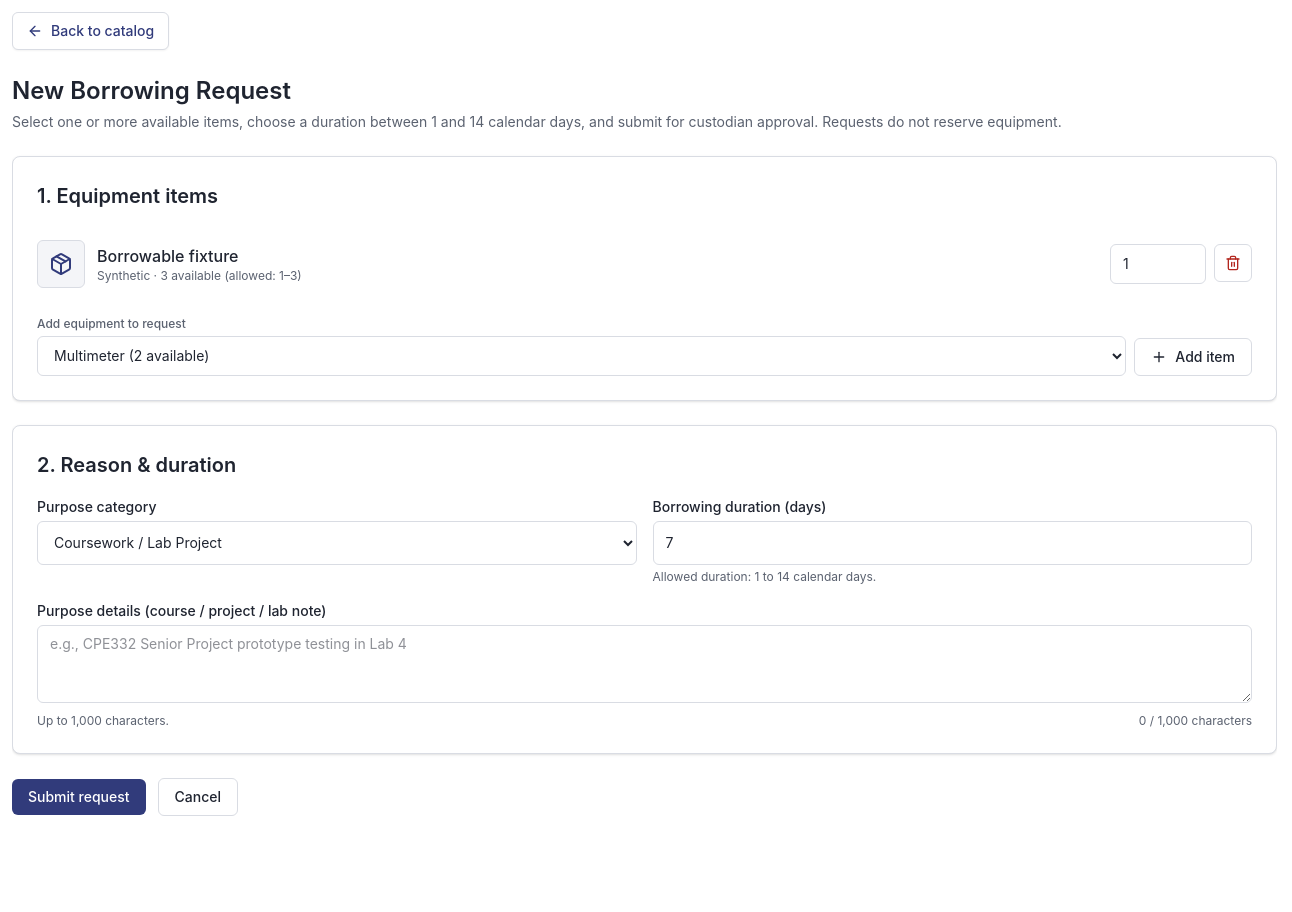
F-04 / F-11 request creation & management UI › submits single item with purpose & duration and opens detail WITHOUT linking to catalog item
Replace the text in the 1st number field with "2" at (1158, 264), box [1110,244,1206,284]
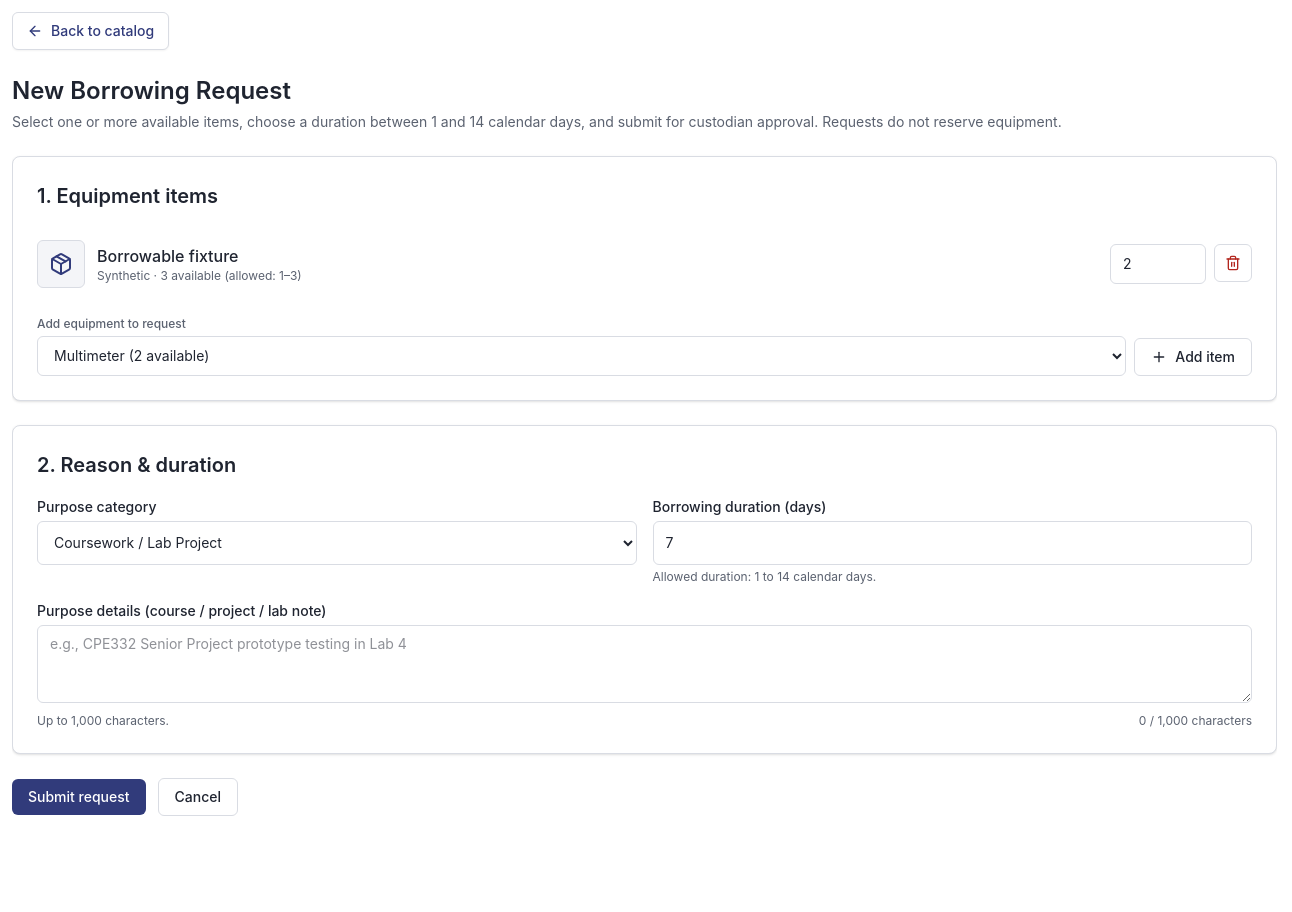
Replace the text in the number field labelled "Borrowing duration (days)" with "10" at (952, 543), box [652,521,1252,565]
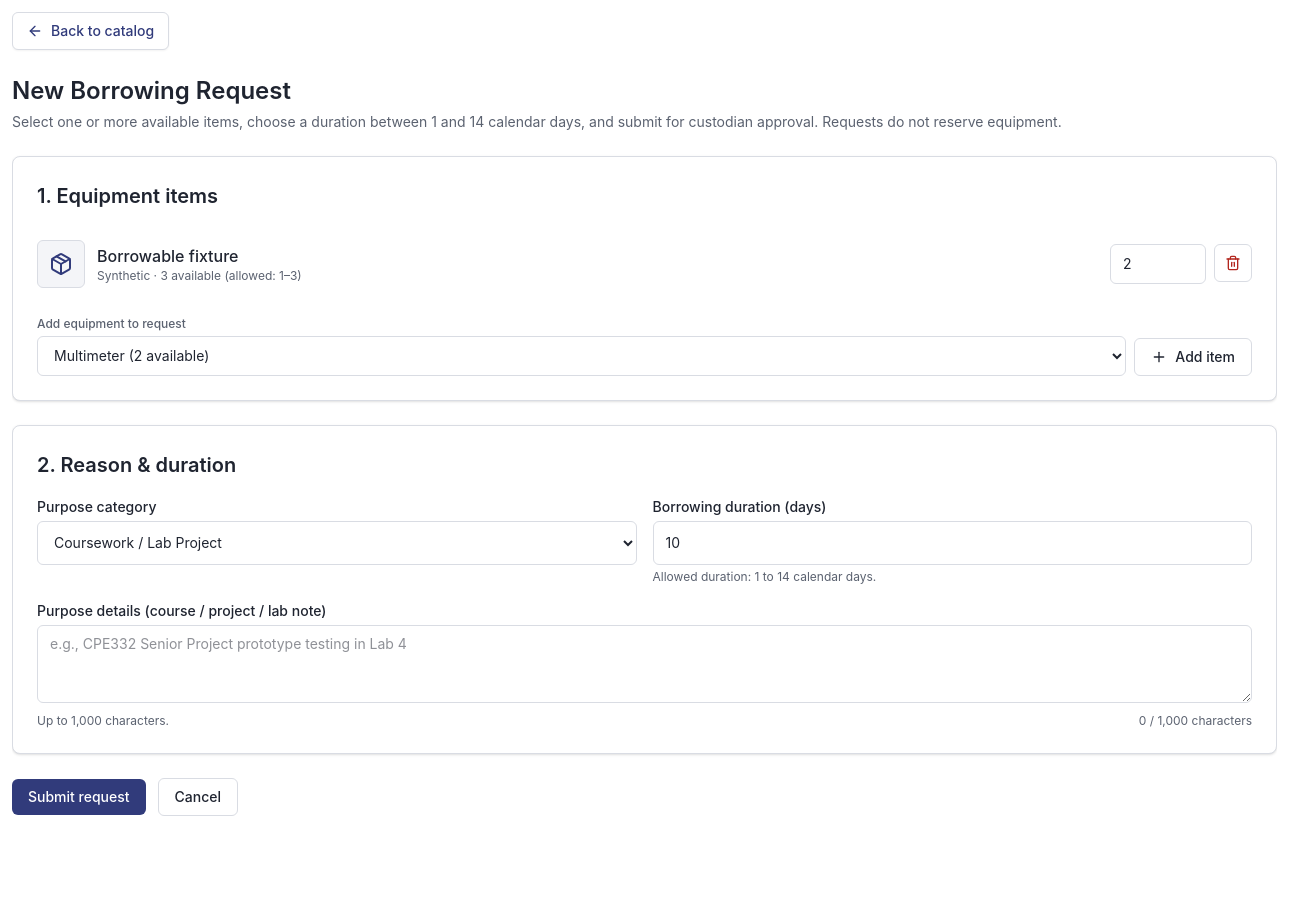
Type "CPE332 Lab" into the text box labelled "Purpose details (course / project / lab note)" at (644, 664), box [37,625,1252,703]
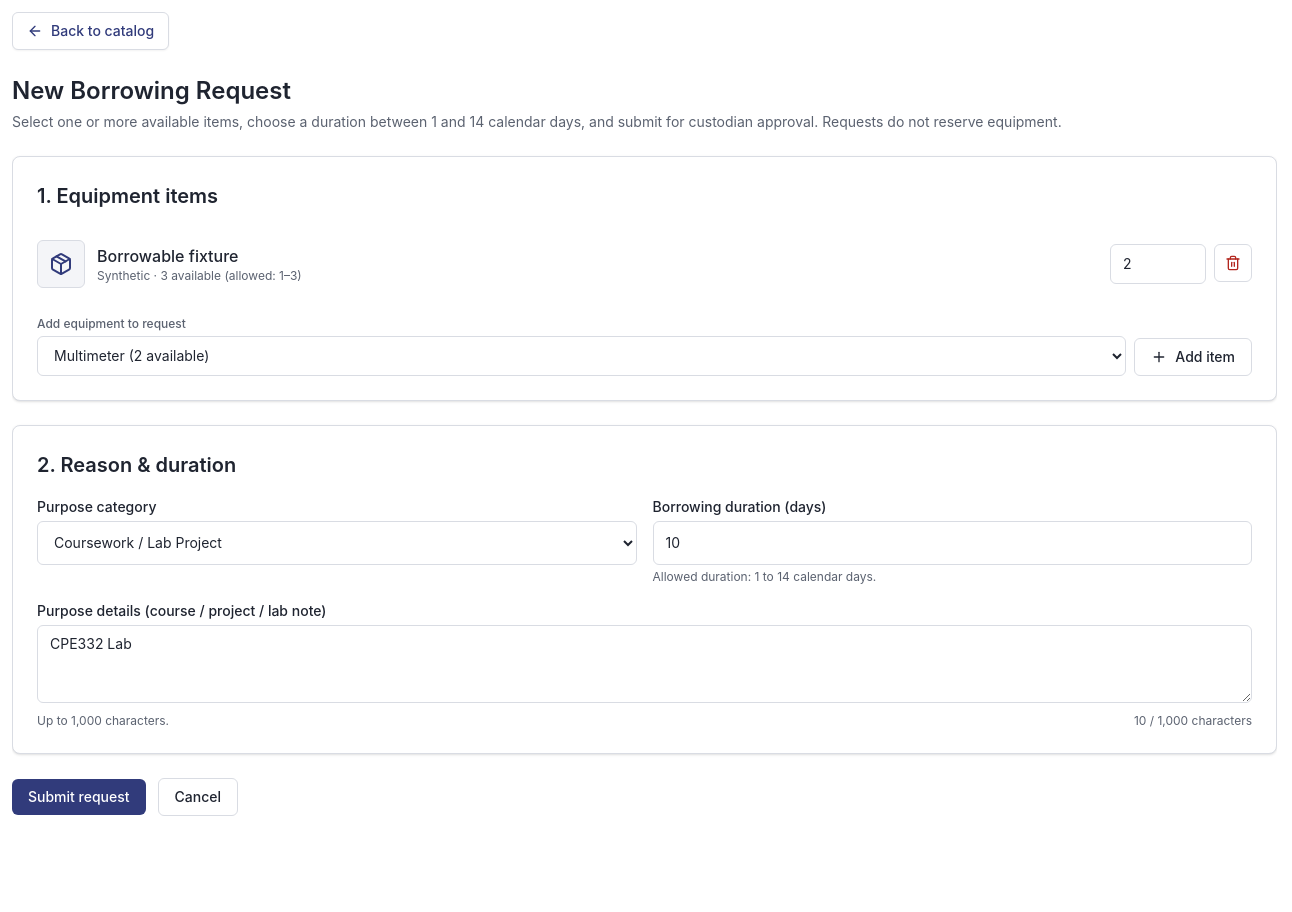
Click the button "Submit request" at (79, 797), box [12,779,146,815]
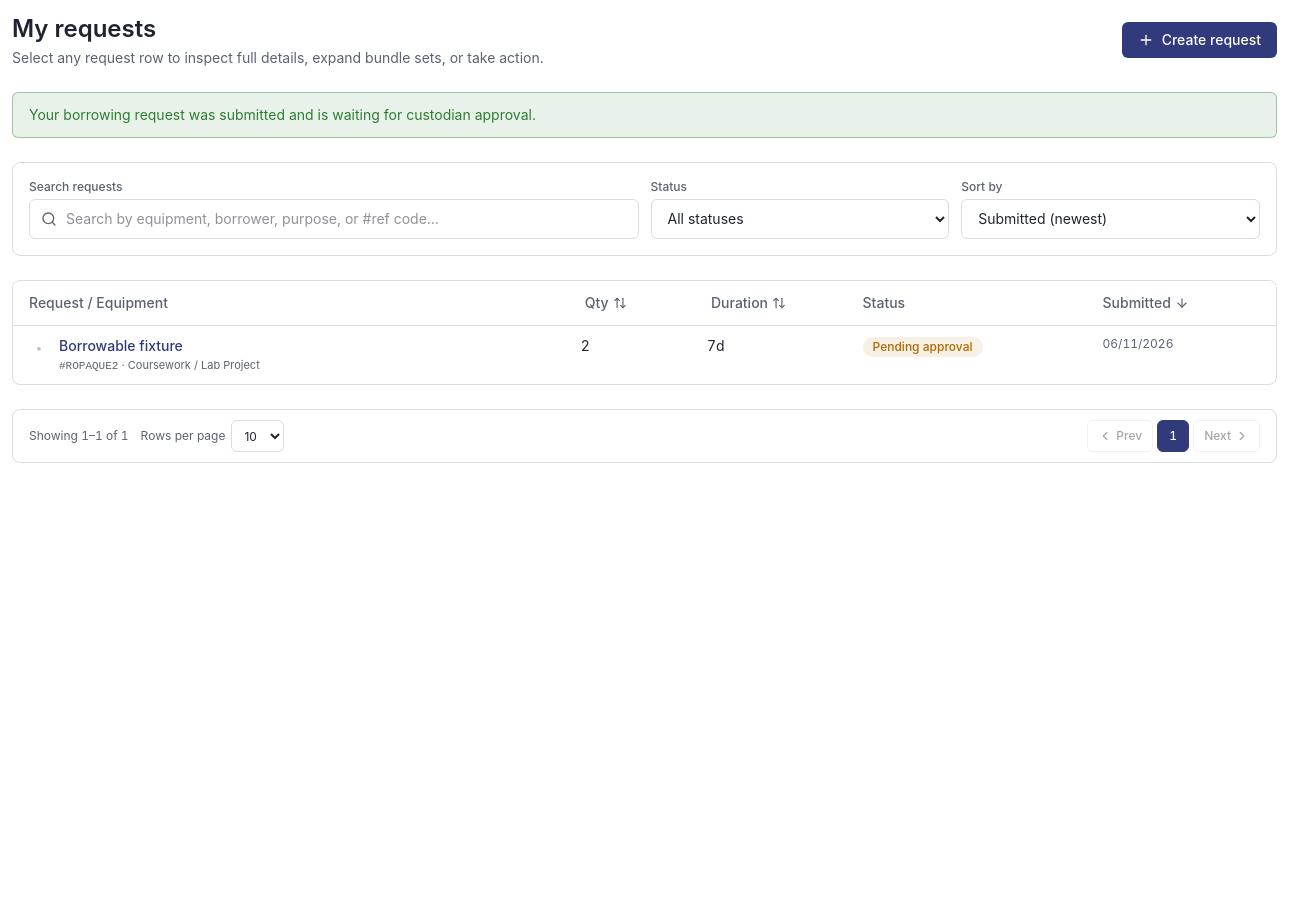
Expected: the heading "My requests" is shown, [12,14,156,43]
Expected: the text "waiting for custodian approval" is shown, [29,106,536,123]
Click the link "Borrowable fixture" at (121, 345), box [59,337,183,354]
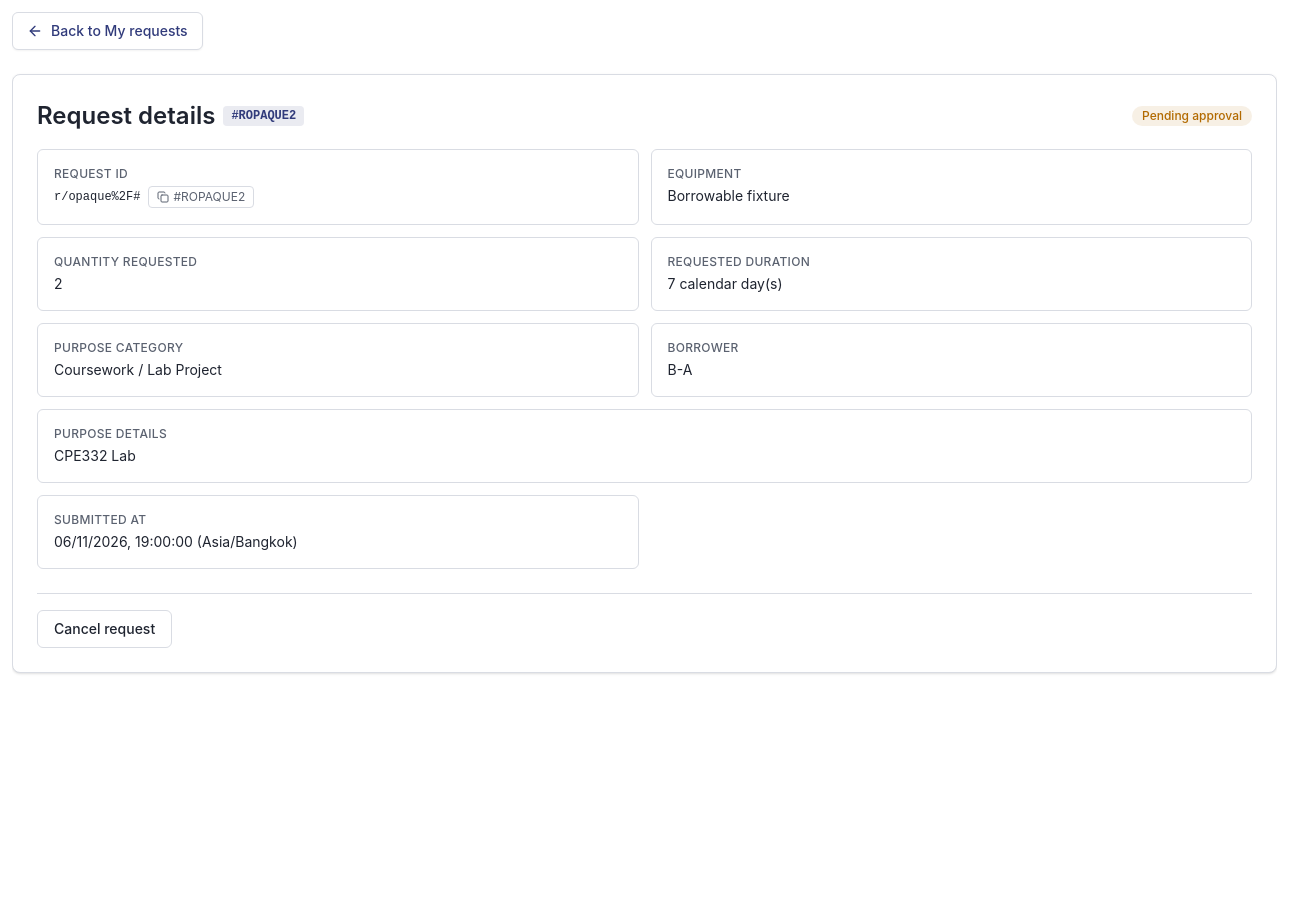
Expected: the heading "Request details" is shown, [37,99,215,133]
